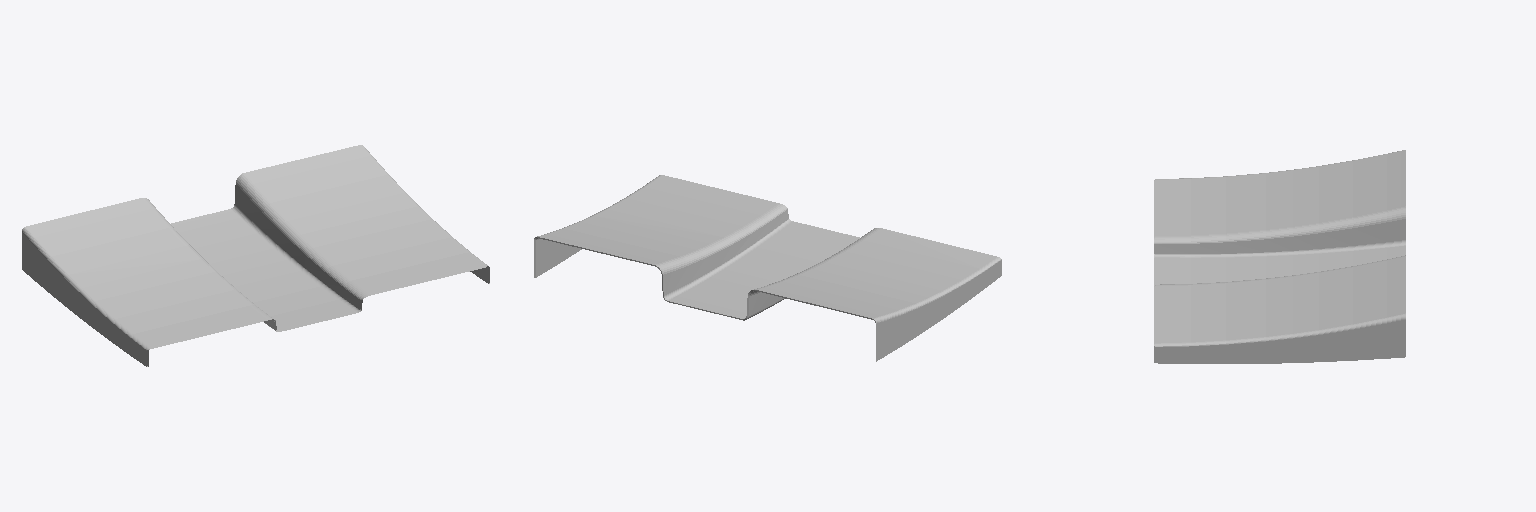
The model's file is Engine_Diffusor.obj.
3 renders of one model, left to right at view 1: azimuth 30°, elevation 25°; view 2: azimuth 150°, elevation 25°; view 3: azimuth 270°, elevation 25°, orthographic.
Visible parts, largest first — view 1: Diffusor_group__Spark_Renault_SRT_01E_difusor; view 2: Diffusor_group__Spark_Renault_SRT_01E_difusor; view 3: Diffusor_group__Spark_Renault_SRT_01E_difusor.
Part boxes in pixels (left/top/right/bottom): Diffusor_group__Spark_Renault_SRT_01E_difusor: left=22, top=145, right=489, bottom=366; Diffusor_group__Spark_Renault_SRT_01E_difusor: left=534, top=175, right=1001, bottom=361; Diffusor_group__Spark_Renault_SRT_01E_difusor: left=1154, top=150, right=1405, bottom=363.
Bounding box in the file's own units: 1.11 × 0.1521 × 0.7035.